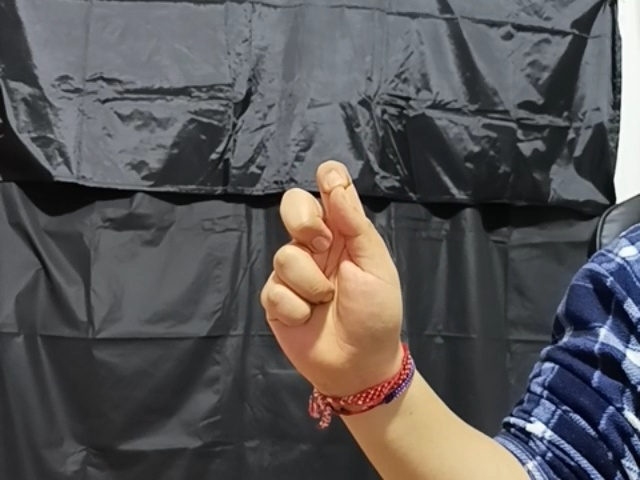T: (251, 155, 410, 377)
